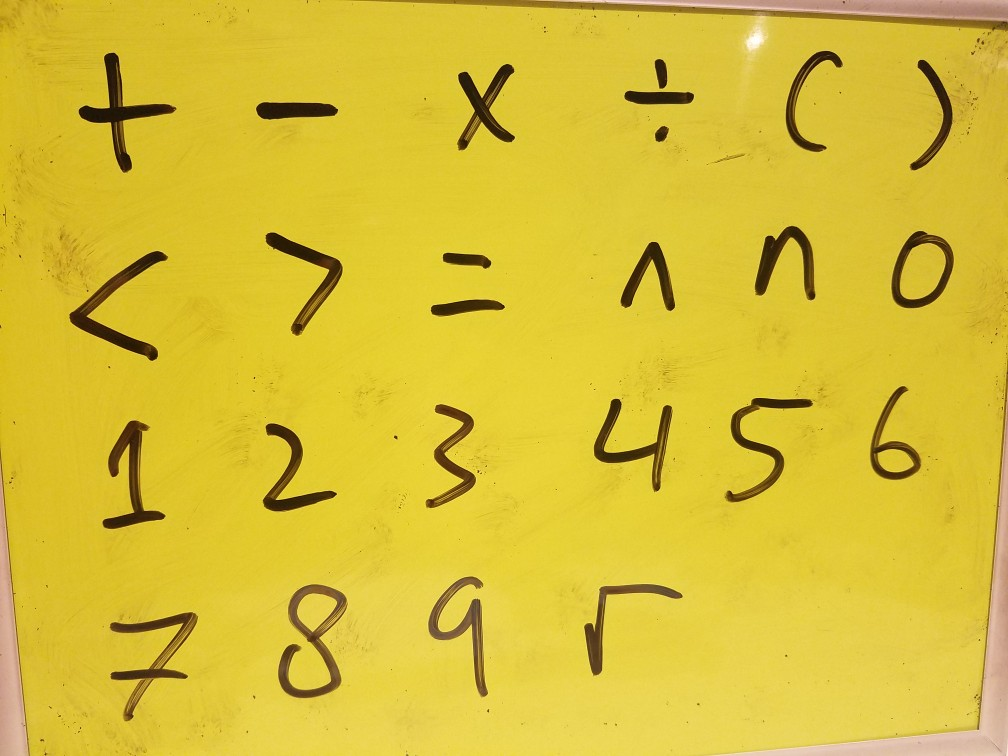(: (763, 27, 859, 165)
): (897, 48, 962, 180)
+: (68, 38, 185, 183)
-: (250, 75, 342, 142)
0: (873, 212, 971, 326)
1: (85, 406, 170, 540)
2: (242, 404, 347, 536)
3: (400, 385, 504, 526)
4: (580, 380, 680, 505)
5: (709, 383, 826, 523)
6: (856, 374, 935, 499)
7: (91, 593, 205, 732)
8: (265, 575, 368, 715)
9: (416, 563, 504, 718)
<: (53, 230, 189, 375)
=: (400, 238, 535, 341)
>: (254, 211, 351, 358)
^: (604, 228, 687, 324)
div: (605, 52, 701, 150)
n: (740, 211, 830, 321)
sqrt: (553, 564, 712, 687)
x: (446, 53, 526, 165)
